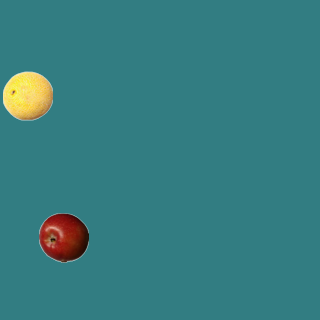Apple Braeburn: (38, 212, 88, 262)
Cantaloupe 1: (2, 70, 52, 120)
